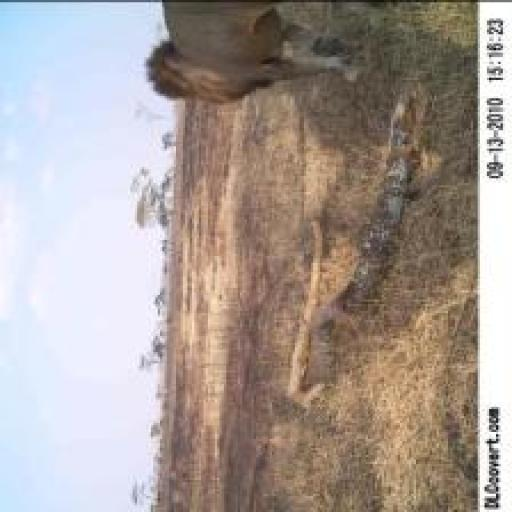lion: (128, 2, 378, 118)
